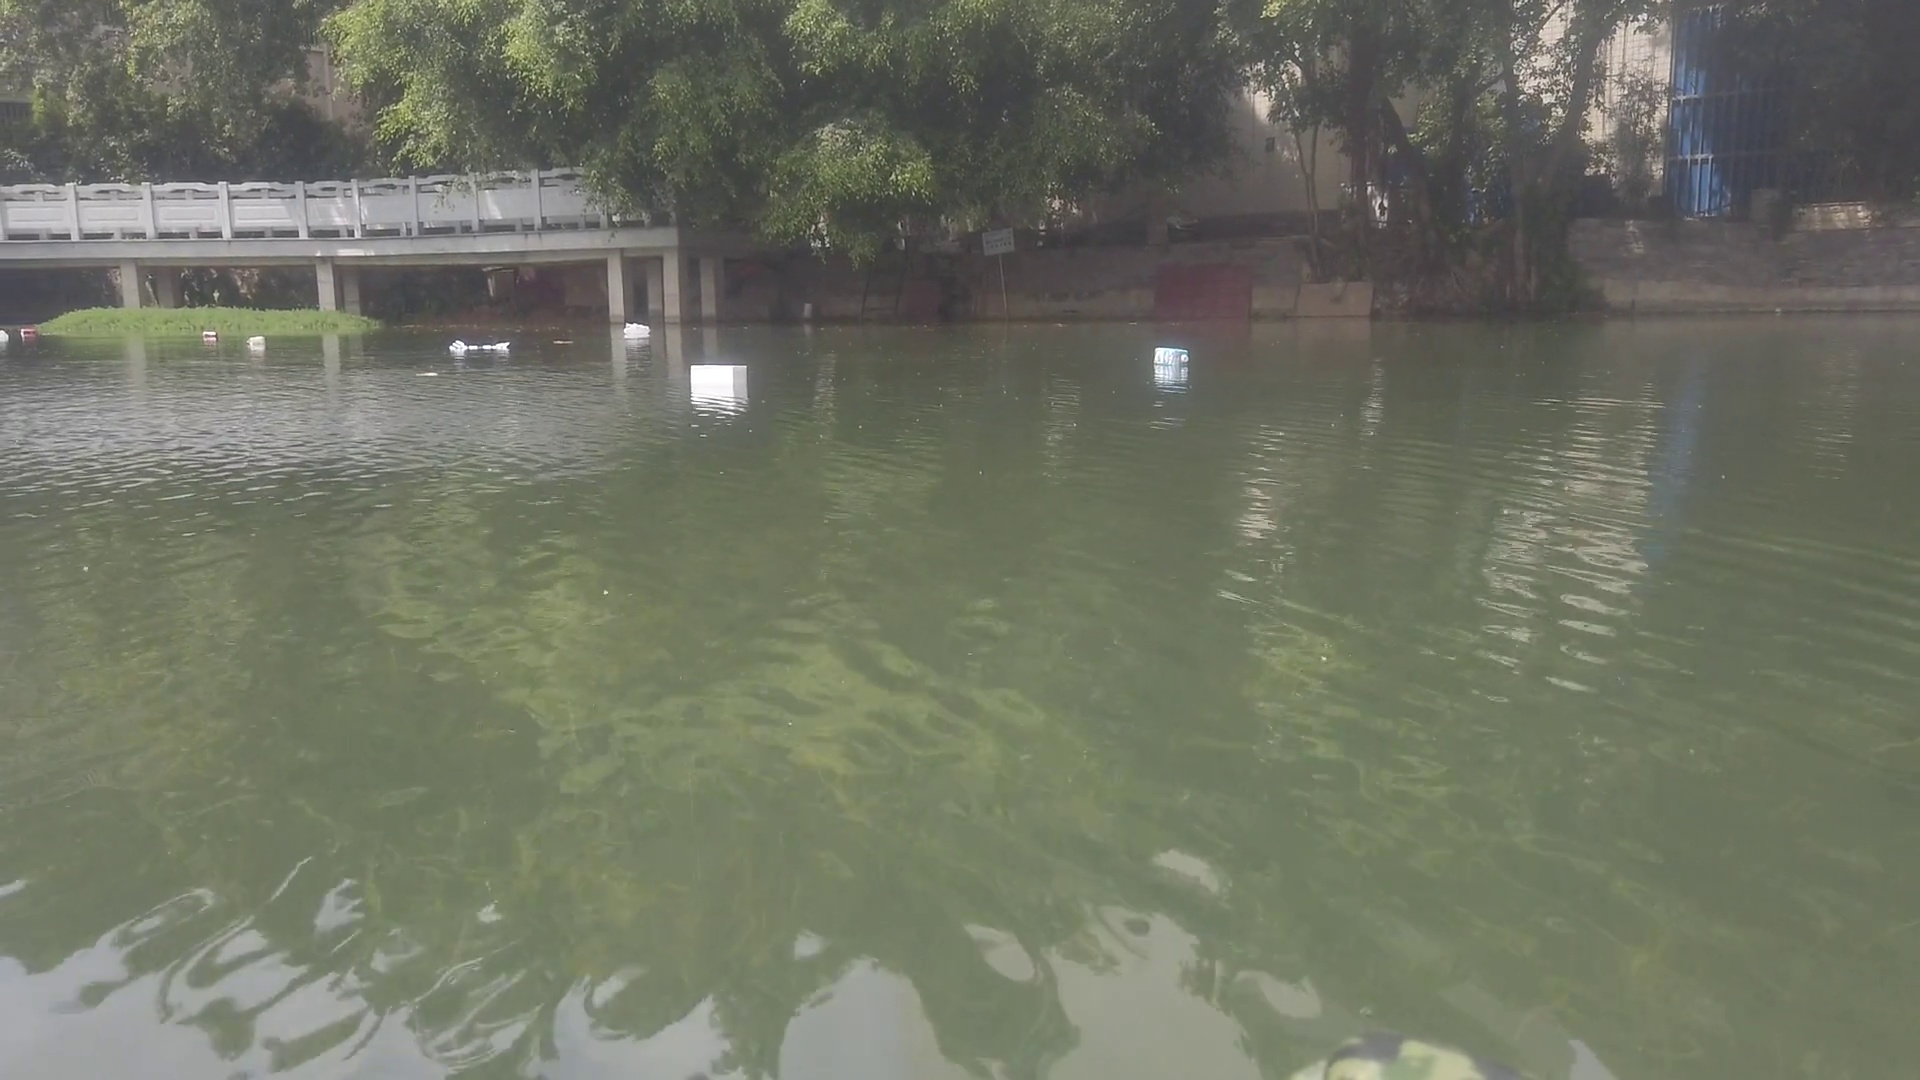bottle: (20, 324, 40, 338), (200, 328, 219, 338)
carton: (688, 360, 749, 388), (1151, 344, 1189, 364), (244, 334, 266, 345)
paper: (447, 338, 509, 355), (413, 367, 440, 380), (550, 338, 574, 344)
plastic: (618, 316, 658, 340), (1, 326, 11, 339)
